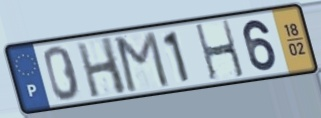0: (43, 44, 81, 103)
1: (162, 28, 192, 84)
6: (241, 17, 279, 73)
H: (74, 35, 130, 100), (192, 18, 247, 83)
M: (113, 29, 172, 95)
